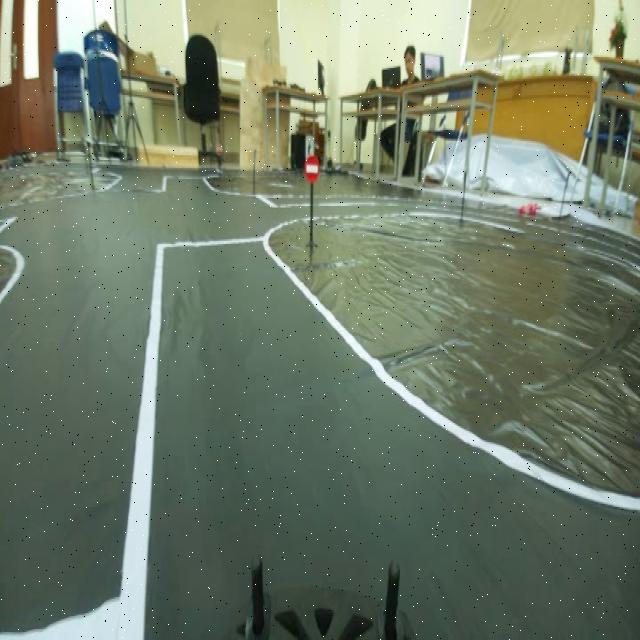no_entry: (300, 150, 323, 186)
